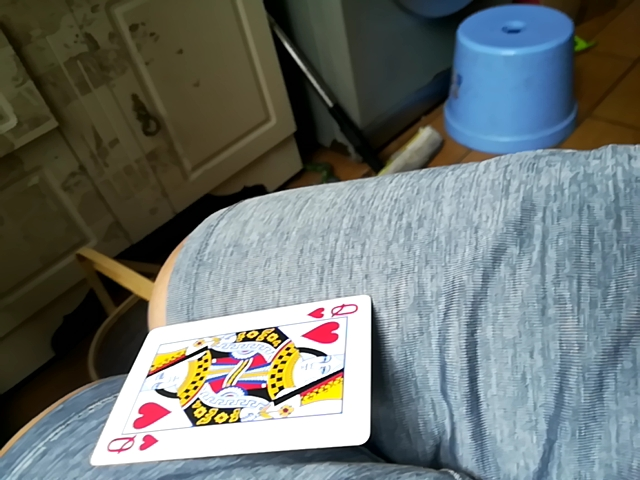hx q: (99, 297, 375, 465)
